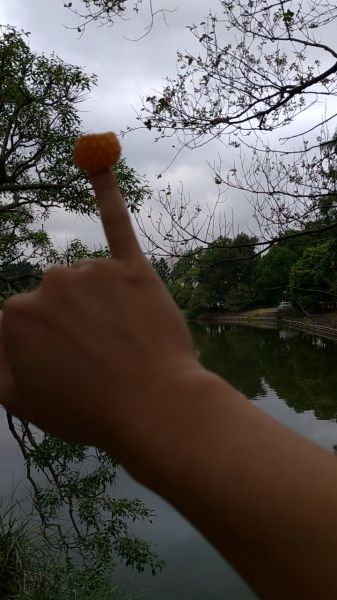eggs: (73, 132, 122, 173)
